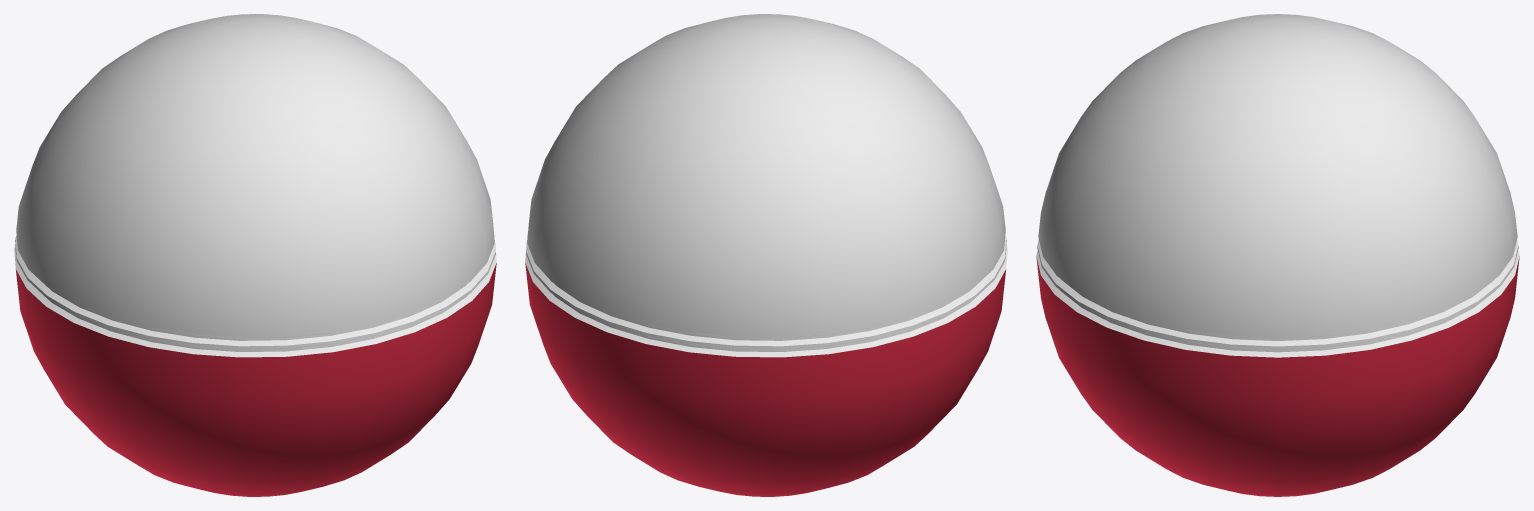
The model's file is CMCapsule.fbx.
The picture shows the model from 3 angles, left to right: view 1: azimuth 30°, elevation 25°; view 2: azimuth 150°, elevation 25°; view 3: azimuth 270°, elevation 25°; orthographic projection.
Visible parts, largest first — view 1: Sphere; view 2: Sphere; view 3: Sphere.
Boxes of the visible parts, <box> form: Sphere: <box>14,14,496,496</box>; Sphere: <box>525,14,1007,496</box>; Sphere: <box>1036,14,1519,496</box>.
Bounding box in the file's own units: 200 × 200 × 200.
